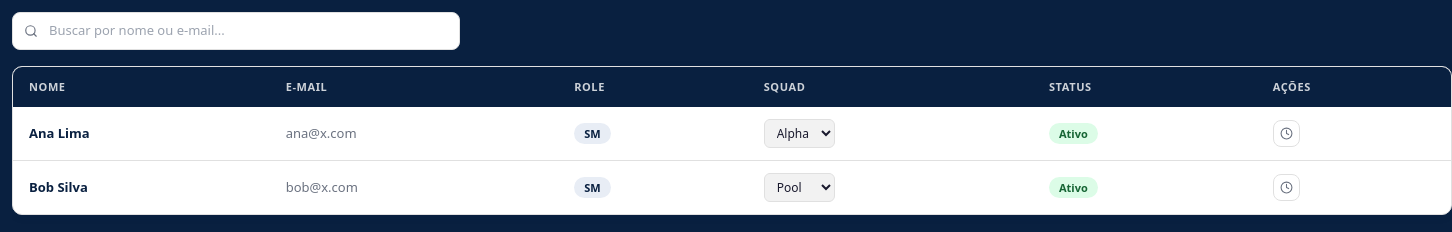
it: AgilistaTable › filters by name search
Type "bob" into the field with placeholder "Buscar por nome ou e-mail..." at coordinates (236, 31), box [12,12,460,50]
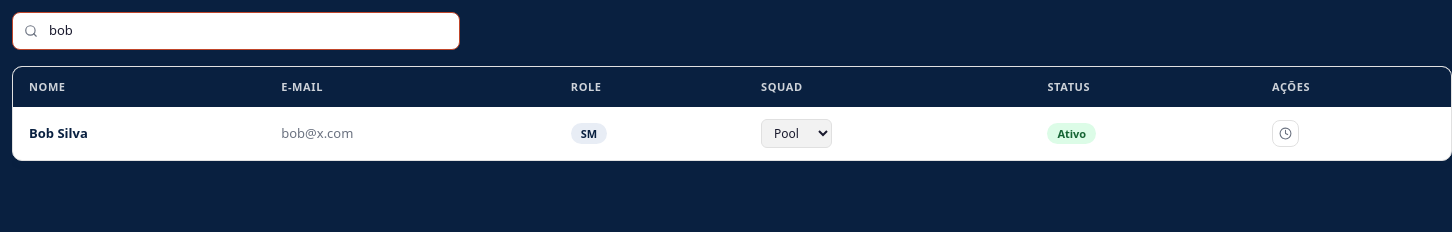
Expected: the text "Bob Silva" is shown, [29,124,88,142]
Result: the text "Ana Lima" is gone
